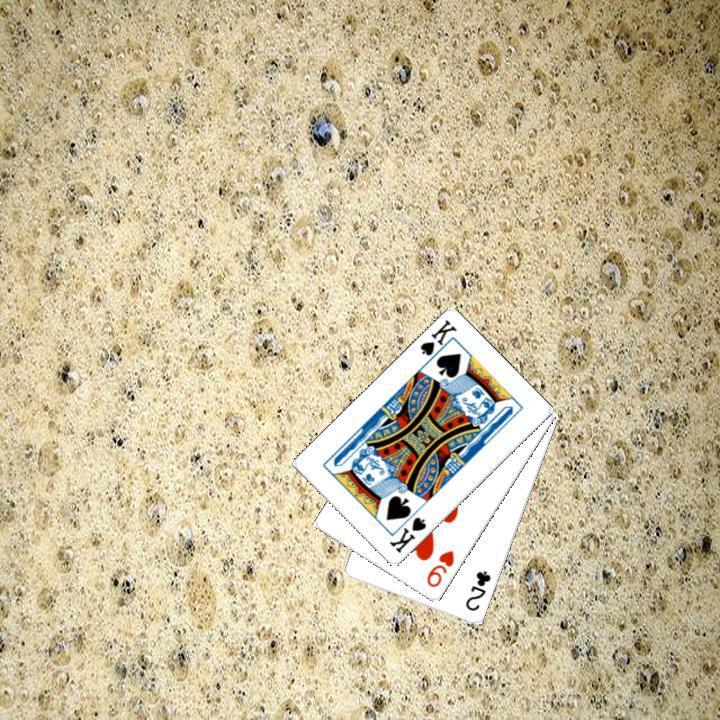2: (461, 566, 493, 613)
9: (422, 546, 456, 590)
K: (416, 316, 459, 367), (385, 513, 428, 556)
